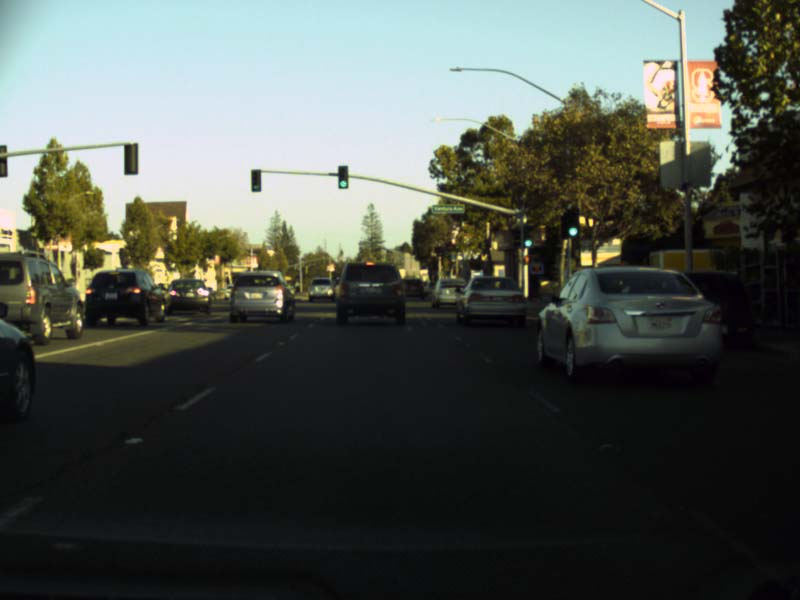Green: (566, 213, 579, 237), (338, 165, 348, 188), (250, 169, 260, 191), (523, 225, 532, 247)
